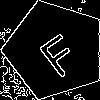F: (30, 25, 85, 80)
